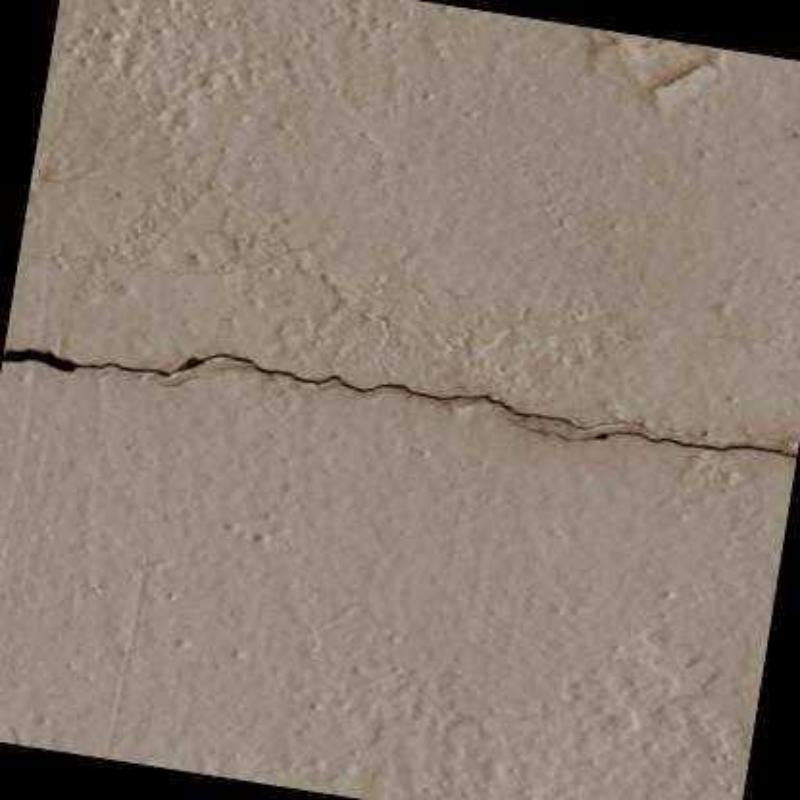pothole: (3, 348, 644, 430), (520, 425, 798, 457)
